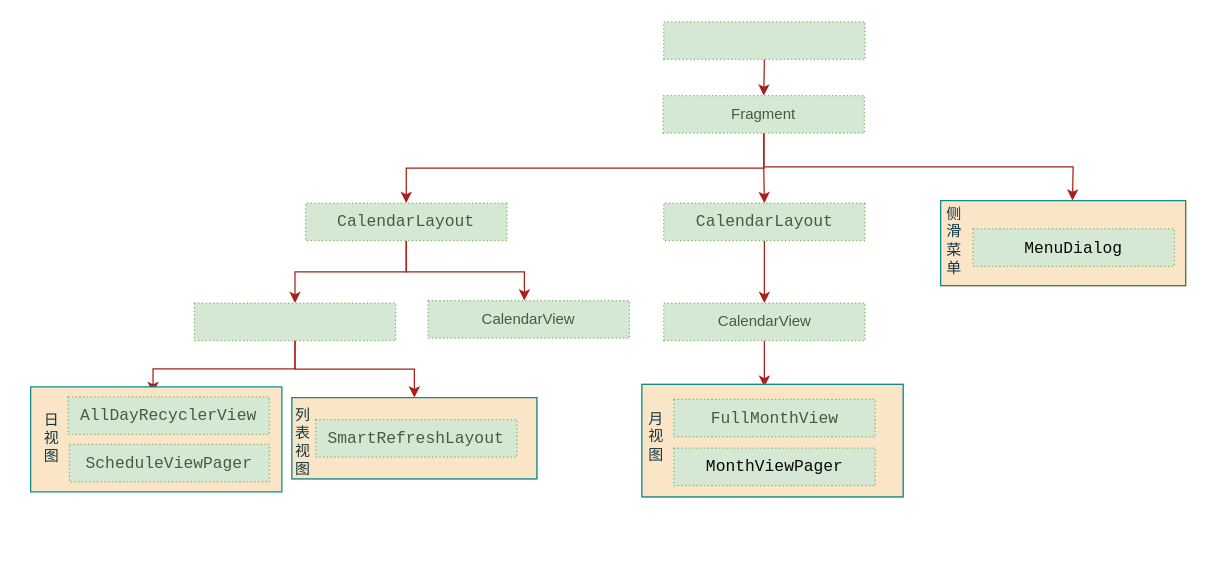
Image size: 1208x588. Some labels were removed from this diagram. Here are the shapes that lost their labels. From the top down, the box of each, then its label:
(662, 21, 865, 59): Activity
(193, 302, 396, 341): ConstraintLayout
